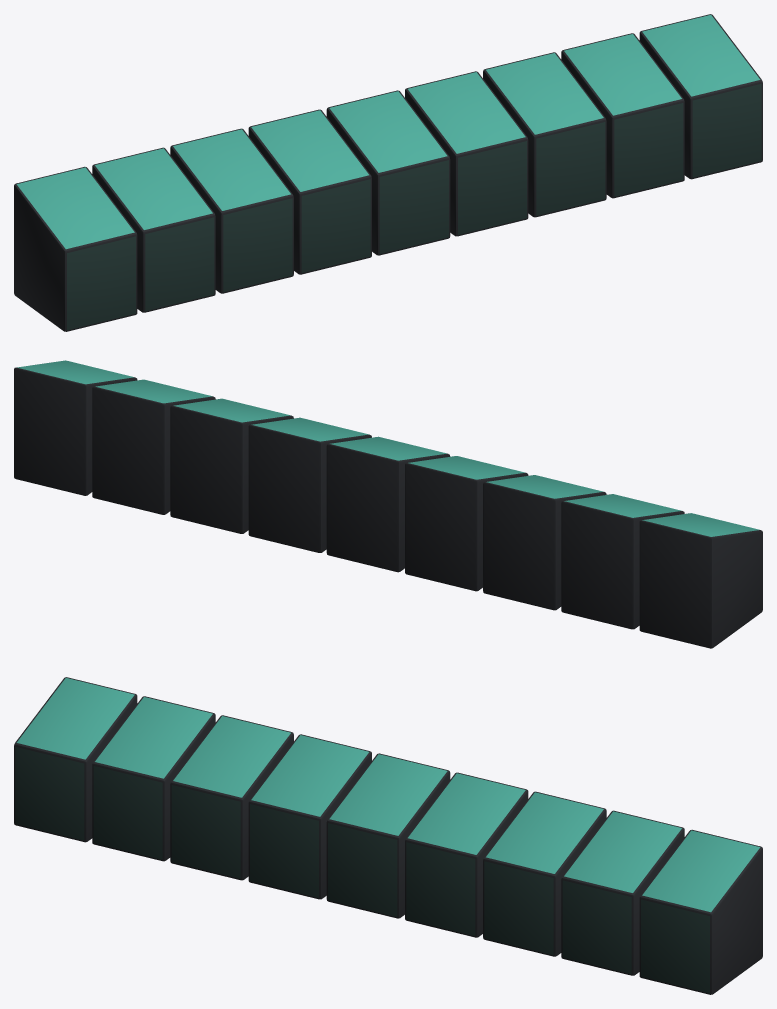
File: ptite boites au mur.fbx
3 renders of one model, top to bottom at view 1: azimuth 30°, elevation 25°; view 2: azimuth 150°, elevation 25°; view 3: azimuth 330°, elevation 25°, orthographic.
Parts seen in each view (by area): view 1: Box030; view 2: Box030; view 3: Box030.
Part boxes in pixels (x1=…): Box030: x1=14, y1=14, x2=762, y2=331; Box030: x1=14, y1=360, x2=762, y2=648; Box030: x1=14, y1=677, x2=762, y2=994.
Bounding box in the file's own units: 322 × 49.03 × 41.24.
